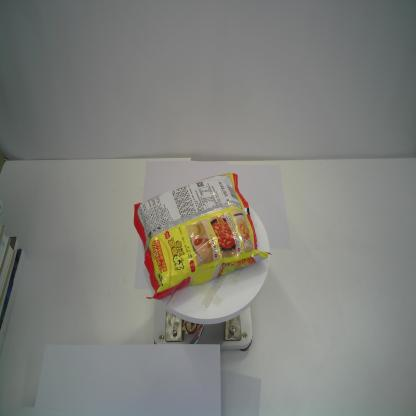Instant Noodles: (134, 172, 272, 300)
